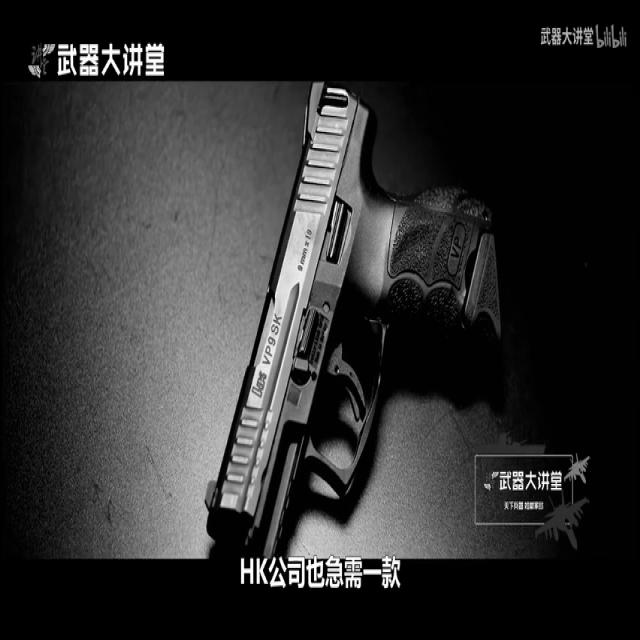Hand-Gun: (158, 18, 554, 629)
